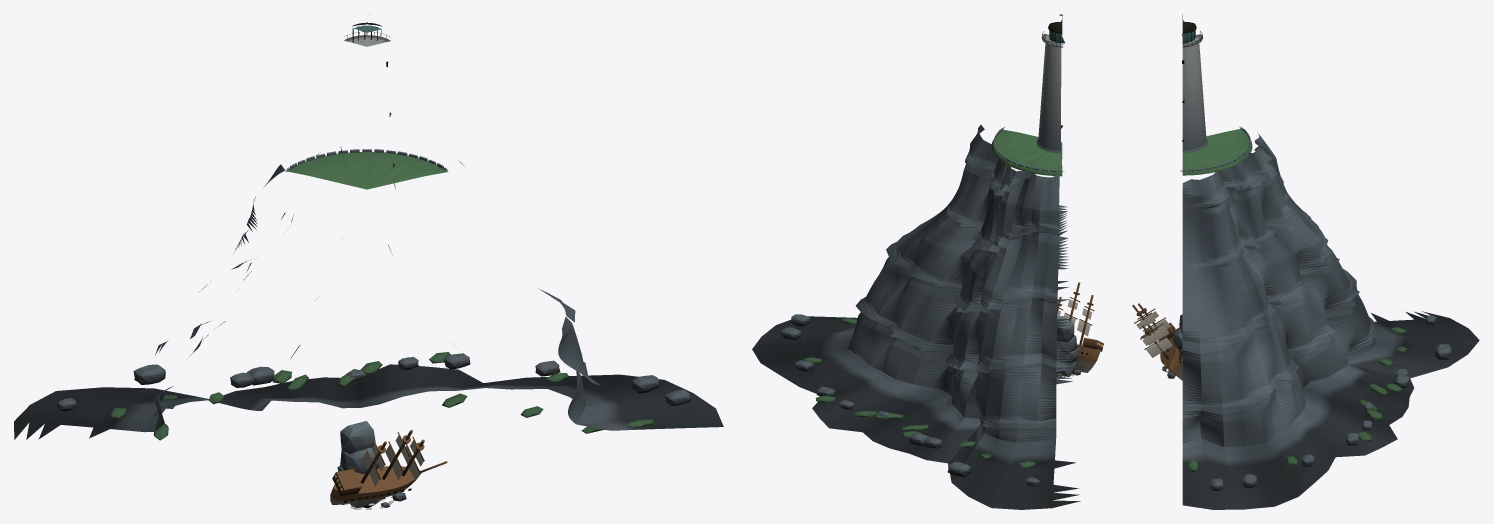
The model's file is coast-s3-uTYXDndO.glb.
3 renders of one model, left to right at view 1: azimuth 30°, elevation 25°; view 2: azimuth 150°, elevation 25°; view 3: azimuth 270°, elevation 25°, orthographic. The views are drawn at different scales.
Parts seen in each view (by area): view 1: sc_landmark_0, sc_galleon, sc_stack_1; view 2: sc_landmark_0, sc_galleon, sc_stack_1; view 3: sc_landmark_0, sc_galleon.
Part boxes in pixels (x1=…): sc_landmark_0: x1=14, y1=14, x2=723, y2=440; sc_galleon: x1=330, y1=430, x2=447, y2=504; sc_stack_1: x1=337, y1=421, x2=406, y2=509; sc_landmark_0: x1=752, y1=14, x2=1080, y2=509; sc_galleon: x1=1057, y1=282, x2=1103, y2=372; sc_stack_1: x1=1056, y1=316, x2=1081, y2=376; sc_landmark_0: x1=1180, y1=14, x2=1479, y2=509; sc_galleon: x1=1132, y1=303, x2=1182, y2=380.
Size of the model in its own units: 375 by 320 by 277.
